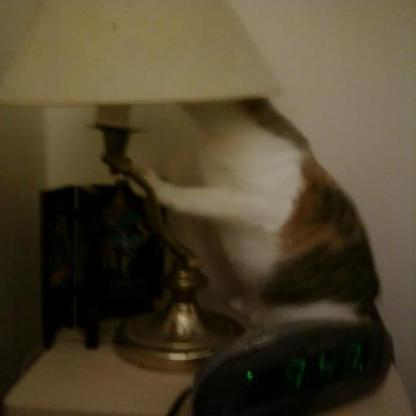Target: (164, 16, 402, 369)
